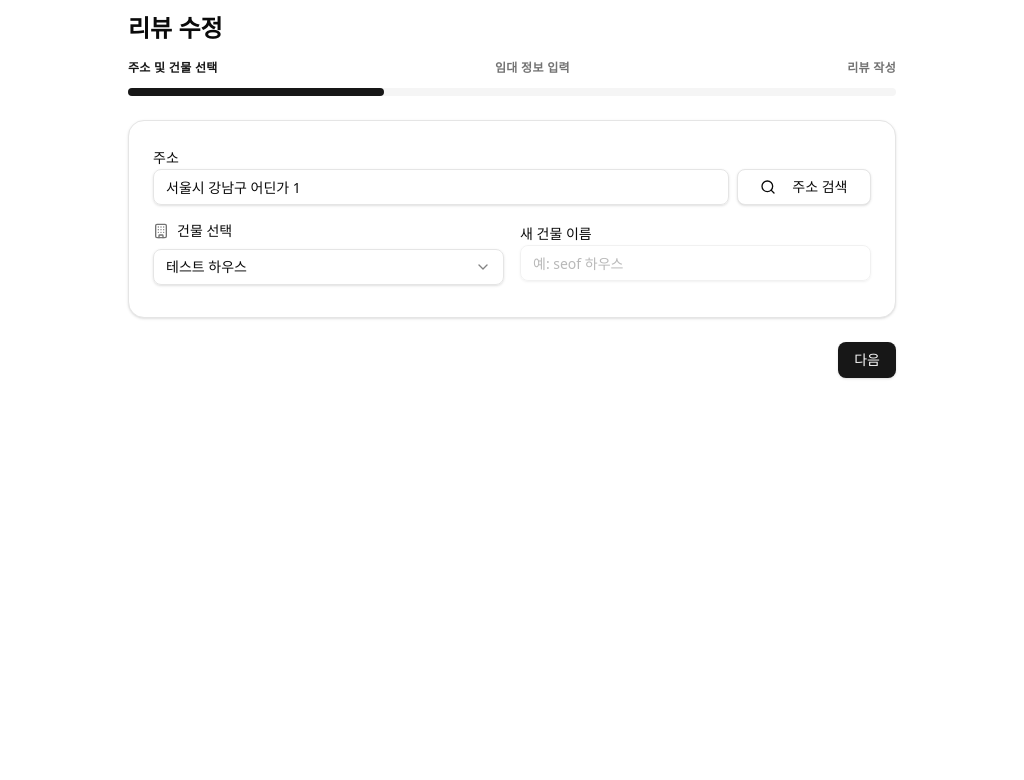
Test case: ReviewFormClient › shows validation error when review details are missing
Click the button "다음" at (867, 360), box [838,342,896,378]
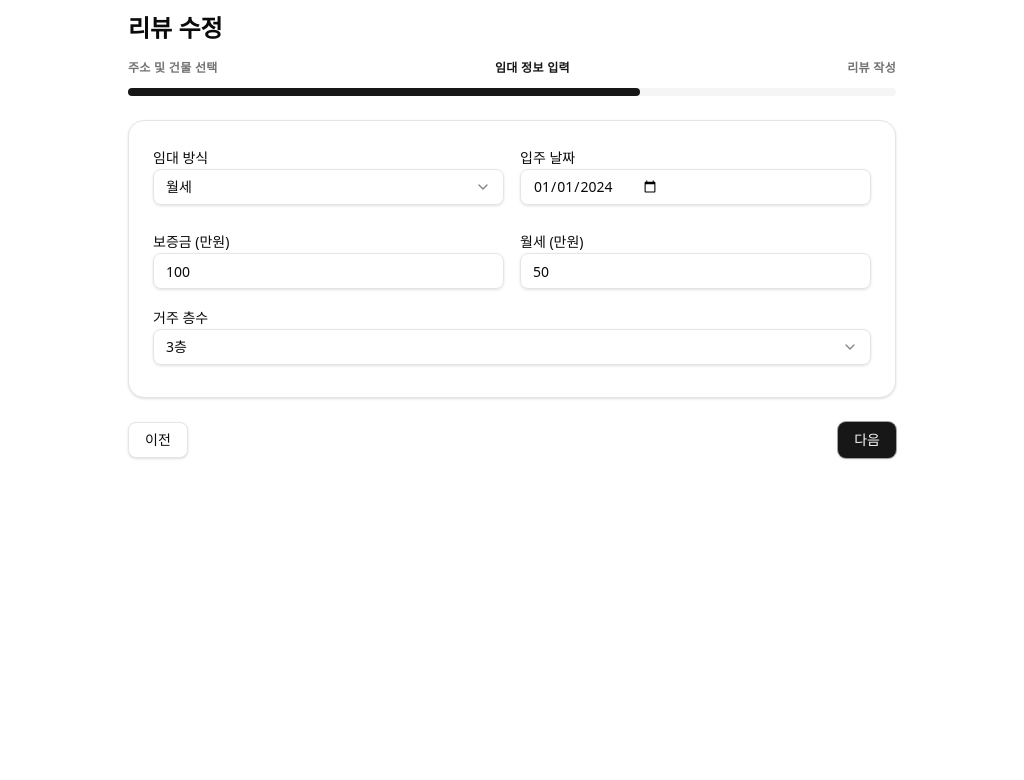
Click the button "다음" at (867, 440), box [838,422,896,458]
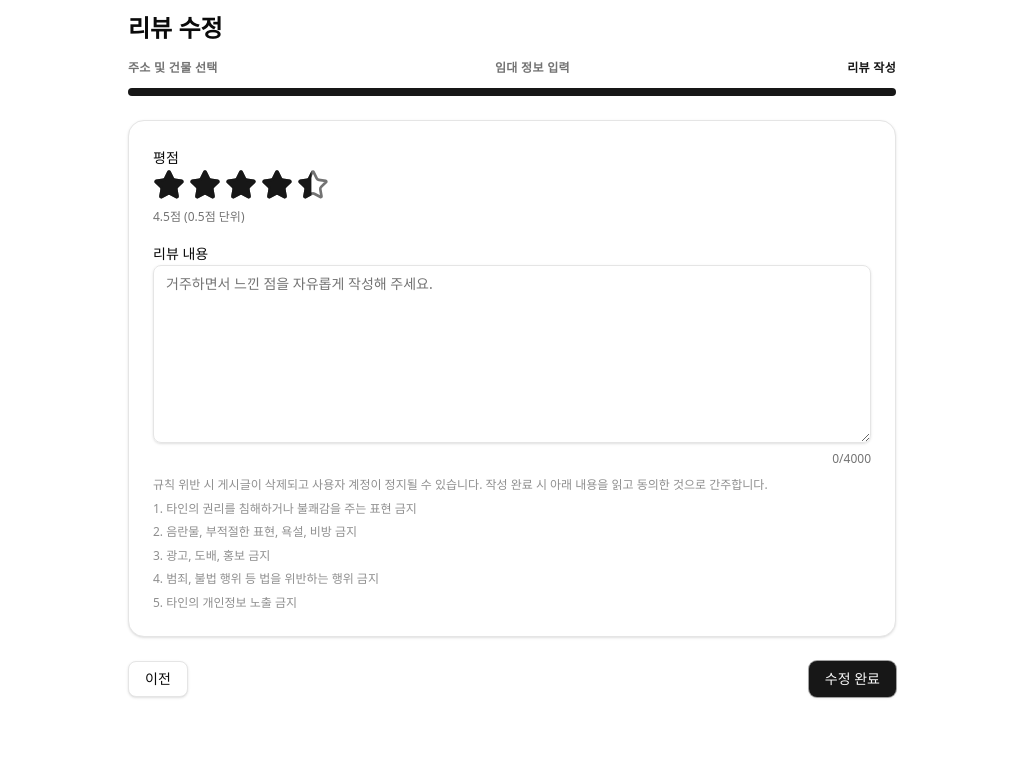
Click the button "수정 완료" at (852, 679), box [809,661,896,697]
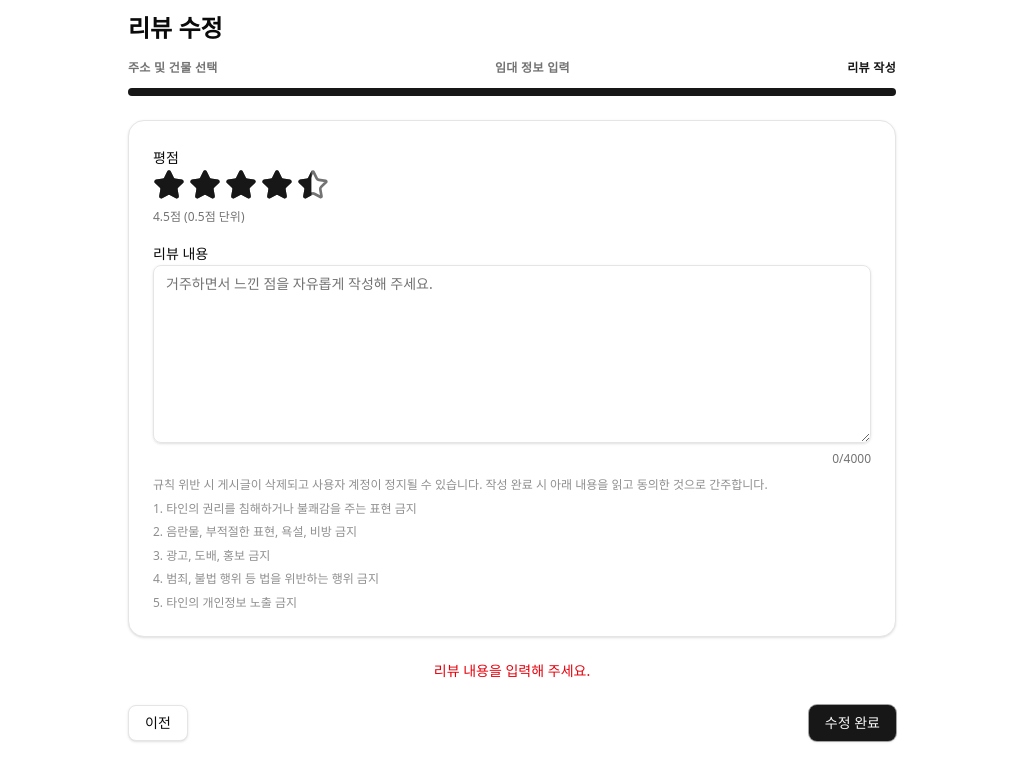
Expected: the text "리뷰 내용을 입력해 주세요." is shown, [434,661,590,680]
